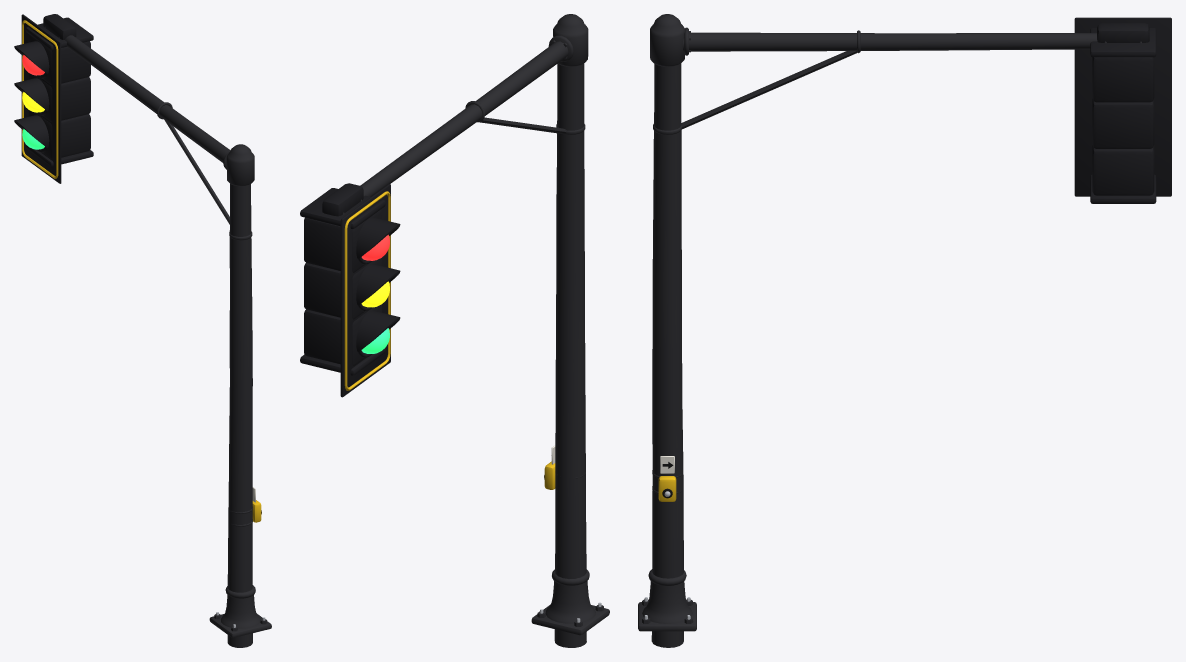
Rendered from traffic_light.glb.
3 renders of one model, left to right at view 1: azimuth 30°, elevation 25°; view 2: azimuth 150°, elevation 25°; view 3: azimuth 270°, elevation 25°, orthographic. The views are drawn at different scales.
Parts seen in each view (by area): view 1: TrafficLight; view 2: TrafficLight; view 3: TrafficLight.
Boxes of the visible parts, x1,y1,x2,y2 form: TrafficLight: [14, 14, 271, 647]; TrafficLight: [300, 14, 609, 647]; TrafficLight: [638, 14, 1171, 647].
Bounding box in the file's own units: 0.635 × 4.7 × 3.63.
